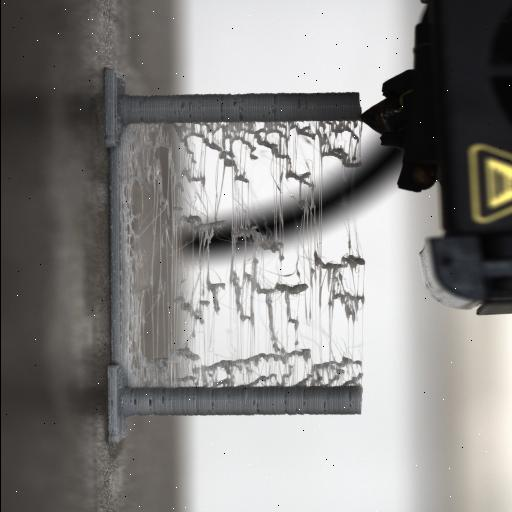stringing: (121, 120, 365, 390)
